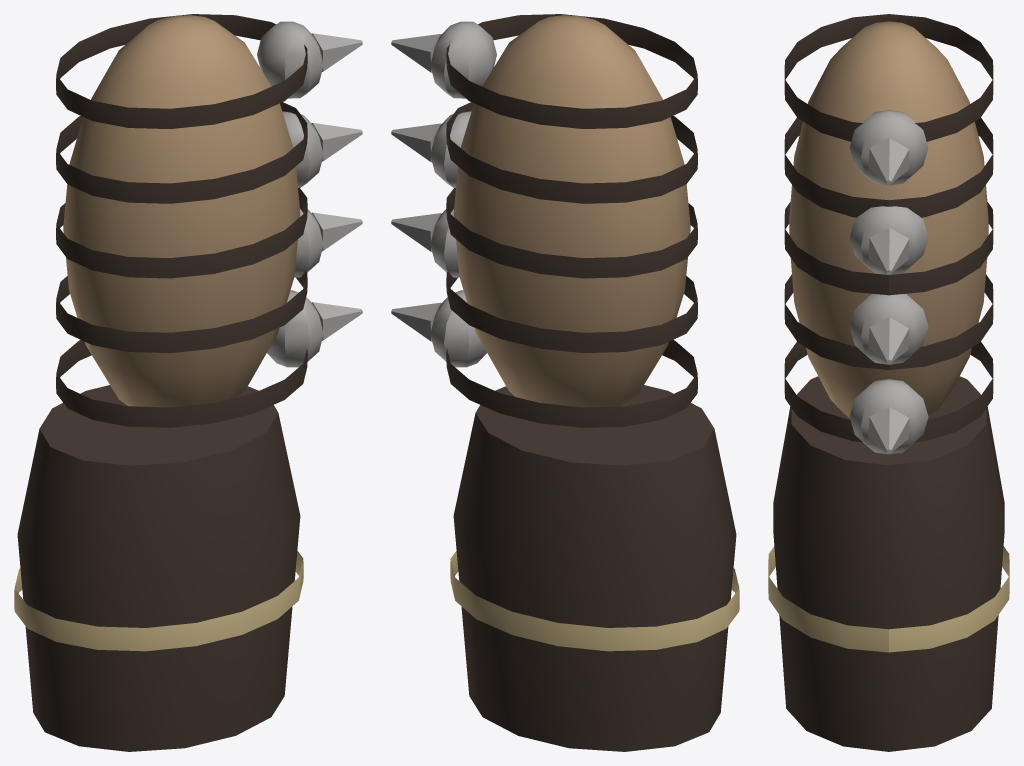
Rendered from studded_cestus.glb.
3 views of the same model, side by side, from view 1: azimuth 30°, elevation 25°; view 2: azimuth 150°, elevation 25°; view 3: azimuth 270°, elevation 25° (orthographic).
Visible parts, largest first — view 1: studded_cestus; view 2: studded_cestus; view 3: studded_cestus.
Part boxes in pixels (x1,y1,x2,y2): studded_cestus: (14,14,362,751); studded_cestus: (391,14,739,751); studded_cestus: (768,14,1009,751).
Size of the model in its own units: 0.1172 by 0.2275 by 0.0731.
